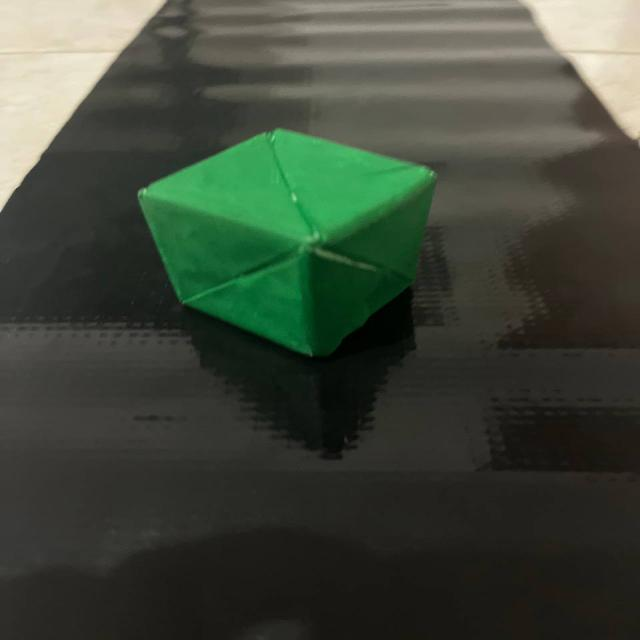Verde: (125, 117, 458, 372)
